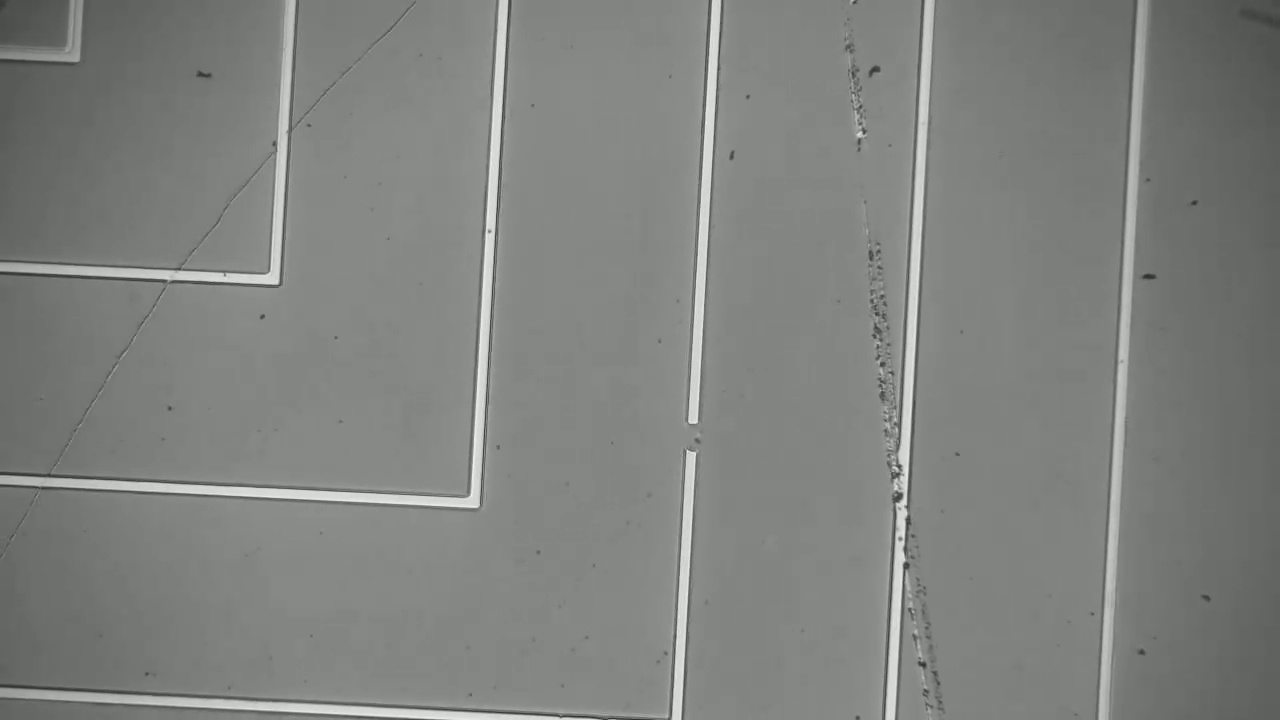open: (670, 397, 711, 464)
scratch: (7, 4, 411, 557), (835, 10, 951, 720)
